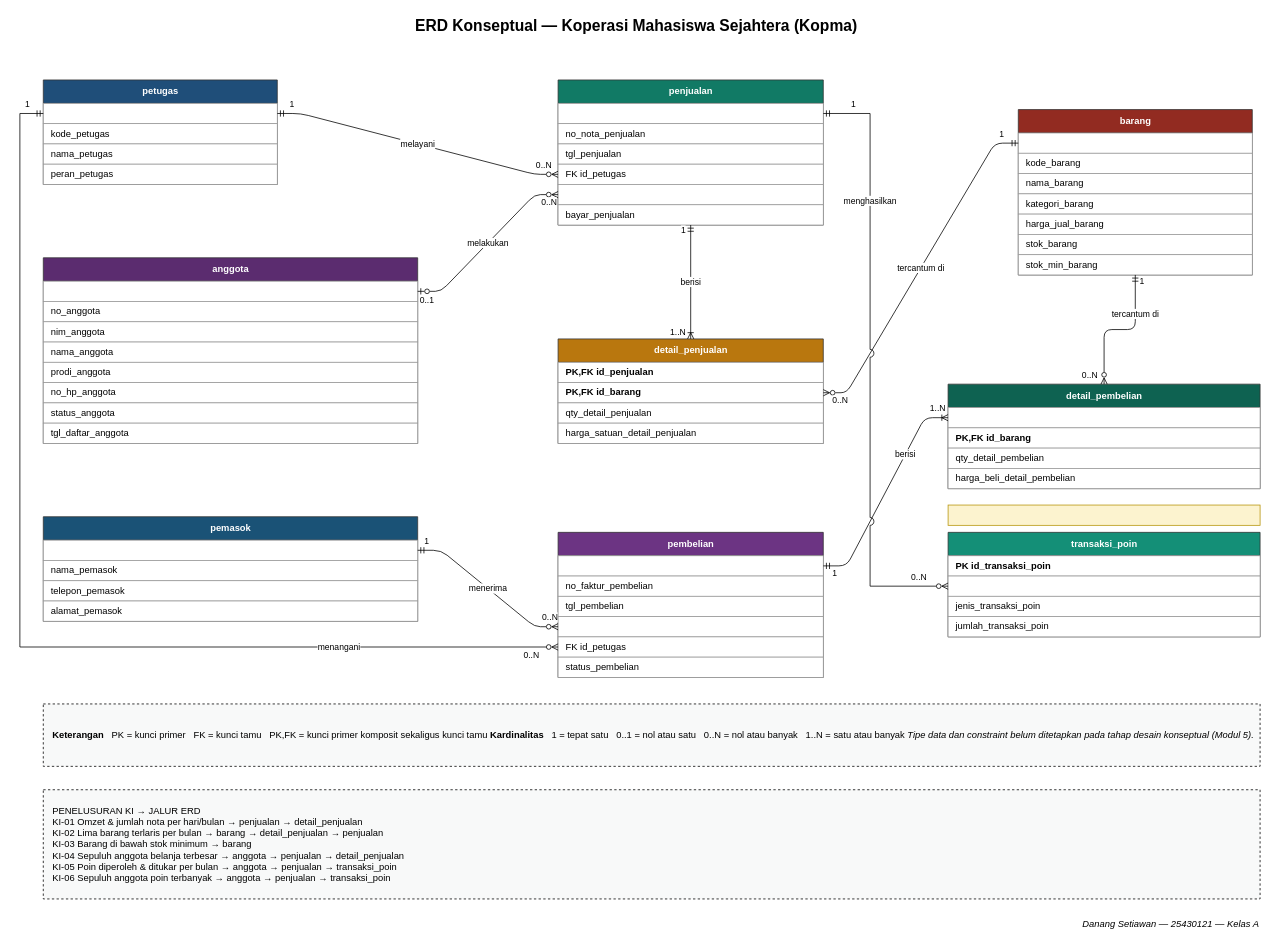
Image size: 1274x948. Some labels were removed from this diagram. The box of each missing label's shape, as (x1, y1, x2, y2) in pixels:
FK id_anggota: (557, 184, 823, 205)
FK id_pemasok: (557, 616, 823, 637)
FK id_penjualan: (947, 575, 1260, 596)
Hasil Latihan E.1: (947, 504, 1260, 525)
PK id_anggota: (43, 280, 418, 301)
PK id_barang: (1018, 132, 1252, 153)
PK id_pemasok: (43, 539, 418, 560)
PK id_pembelian: (557, 555, 823, 576)
PK id_penjualan: (557, 103, 823, 124)
PK id_petugas: (43, 103, 277, 124)
PK,FK id_pembelian: (947, 407, 1260, 428)
